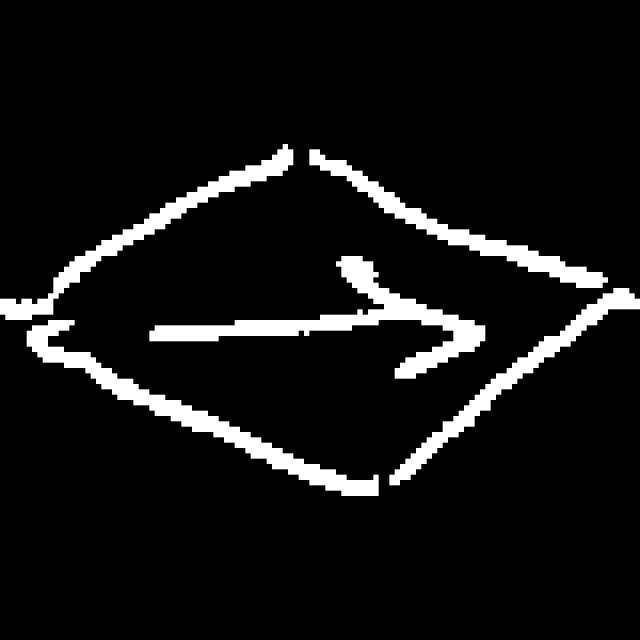dependant_current: (30, 142, 610, 496)
